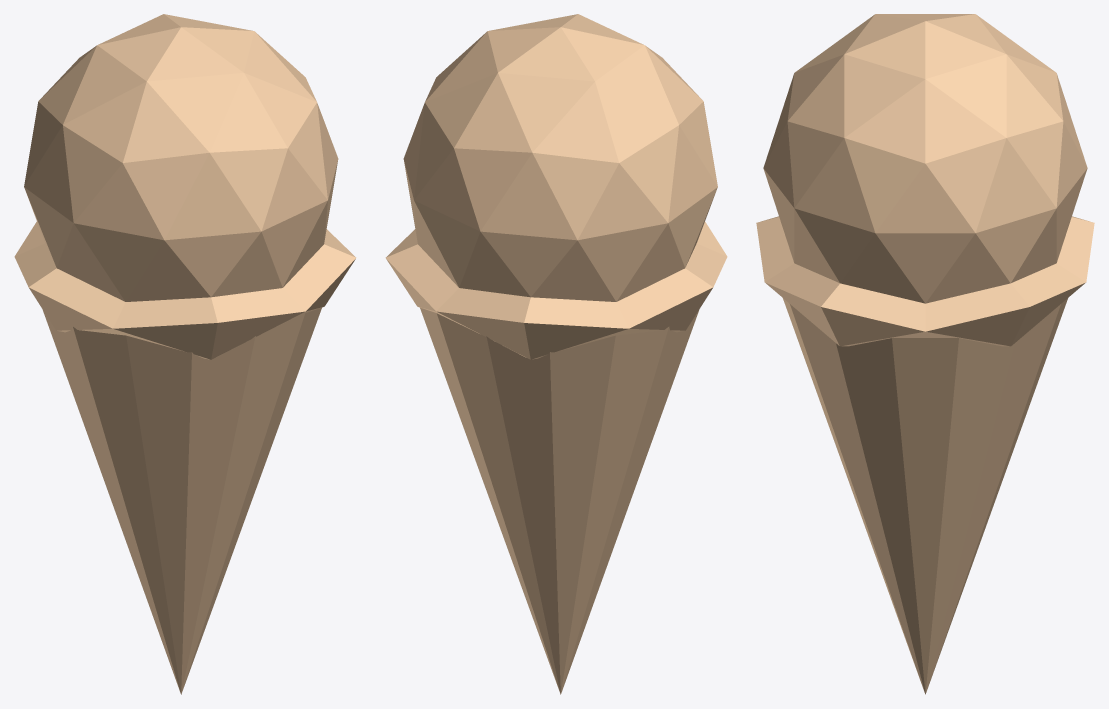
The model's file is q-icecream.glb.
3 renders of one model, left to right at view 1: azimuth 30°, elevation 25°; view 2: azimuth 150°, elevation 25°; view 3: azimuth 270°, elevation 25°, orthographic.
Parts seen in each view (by area): view 1: Icecream; view 2: Icecream; view 3: Icecream.
Part boxes in pixels (x1,y1,x2,y2): Icecream: (14,14,356,694); Icecream: (385,14,727,694); Icecream: (756,14,1094,694).
Bounding box in the file's own units: 0.8542 × 1.83 × 0.8327.
